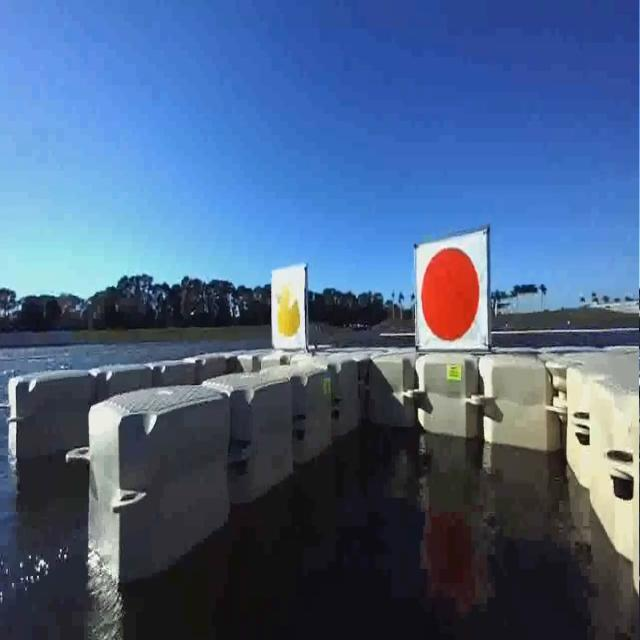red-dot: (415, 240, 486, 347)
yellow-duck: (271, 274, 306, 358)
